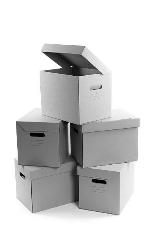paper: (40, 43, 112, 125), (70, 108, 140, 168), (14, 155, 78, 213), (16, 108, 68, 168), (76, 162, 134, 214)
